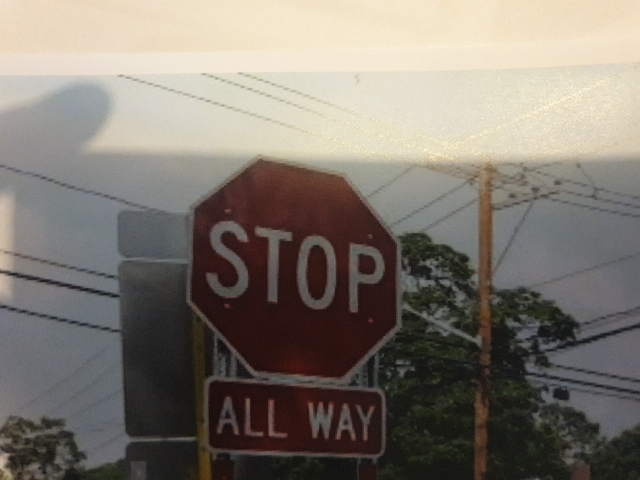stop: (203, 173, 395, 353)
